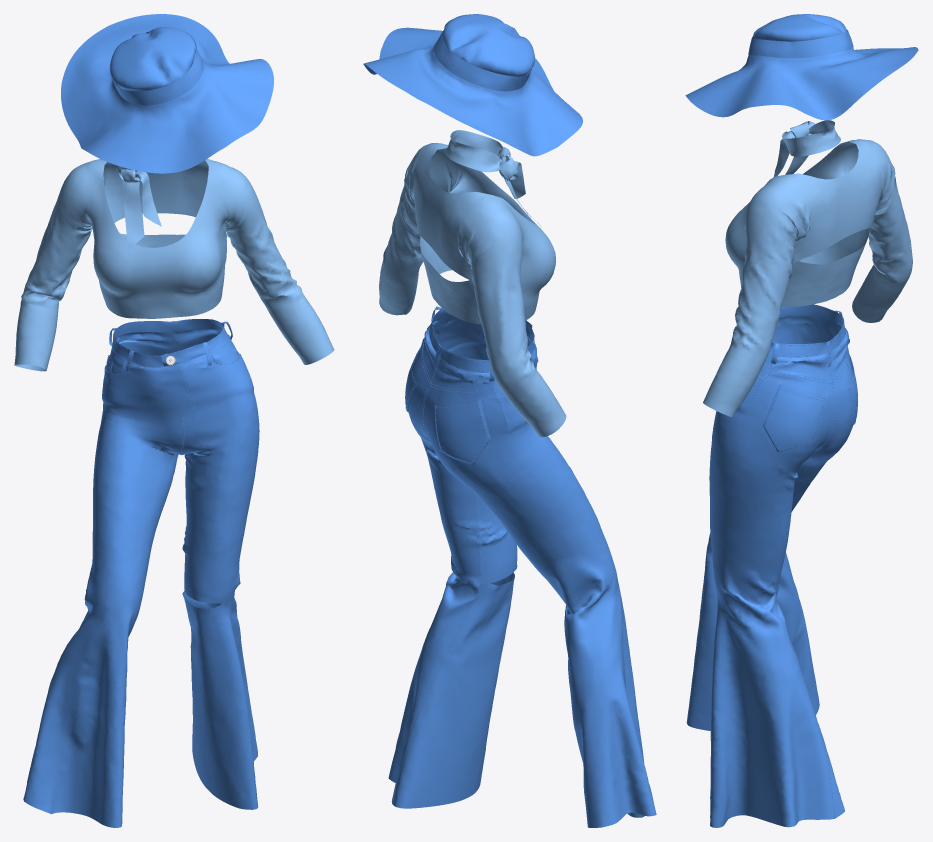
The picture shows the model from 3 angles, left to right: view 1: azimuth 30°, elevation 25°; view 2: azimuth 150°, elevation 25°; view 3: azimuth 270°, elevation 25°; orthographic projection. The views are drawn at different scales.
Visible parts, largest first — view 1: Object001, Object002, Object003, M-obj1, M-FBX1; view 2: Object001, Object002, Object003, M-obj1, M-FBX1; view 3: Object001, Object002, Object003, M-obj1, M-FBX1.
Boxes of the visible parts, bbox=[...] form: Object001: bbox=[23, 319, 259, 827]; Object002: bbox=[14, 159, 334, 371]; Object003: bbox=[61, 14, 273, 173]; M-obj1: bbox=[116, 166, 161, 249]; M-FBX1: bbox=[104, 321, 241, 527]; Object001: bbox=[388, 306, 656, 827]; Object002: bbox=[379, 143, 566, 436]; Object003: bbox=[363, 14, 582, 156]; M-obj1: bbox=[445, 130, 540, 225]; M-FBX1: bbox=[392, 306, 538, 803]; Object001: bbox=[686, 304, 857, 827]; Object002: bbox=[703, 139, 912, 417]; Object003: bbox=[685, 14, 918, 120]; M-obj1: bbox=[774, 120, 840, 176]; M-FBX1: bbox=[749, 310, 855, 818].
Bounding box in the file's own units: 0.6918 × 1.76 × 0.4733.
